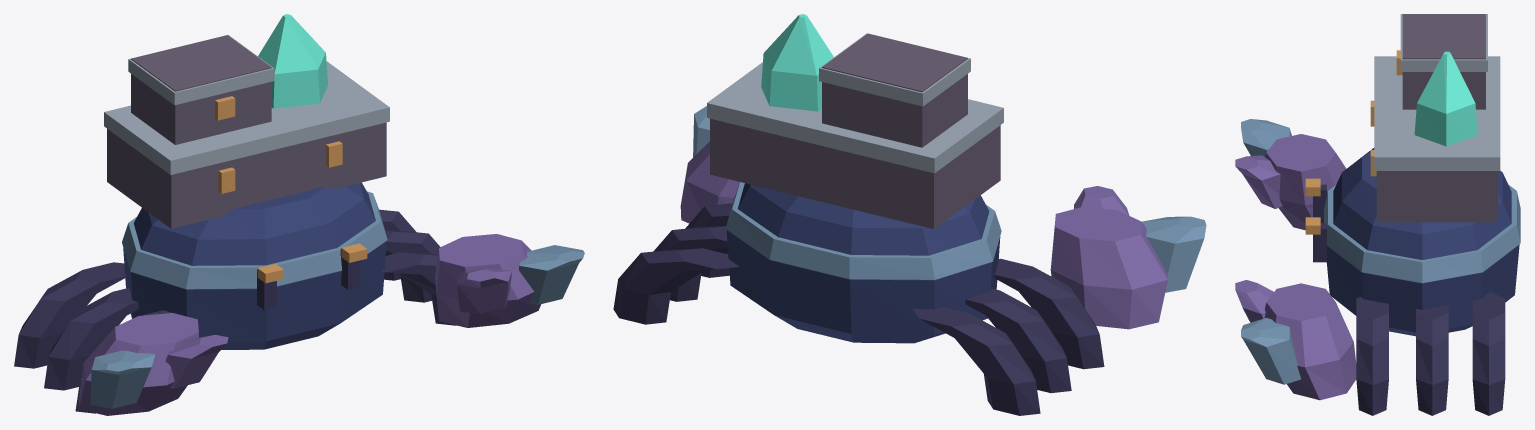
Rendered from moon-crab-model.obj.
3 views of the same model, side by side, from view 1: azimuth 30°, elevation 25°; view 2: azimuth 150°, elevation 25°; view 3: azimuth 270°, elevation 25° (orthographic). The views are drawn at different scales.
Visible parts, largest first — view 1: MoonShellCrab; view 2: MoonShellCrab; view 3: MoonShellCrab.
Part boxes in pixels (x1,y1,x2,y2): MoonShellCrab: [14, 14, 584, 415]; MoonShellCrab: [613, 14, 1206, 415]; MoonShellCrab: [1235, 14, 1520, 415].
Bounding box in the file's own units: 5.4 × 3.21 × 2.87.
